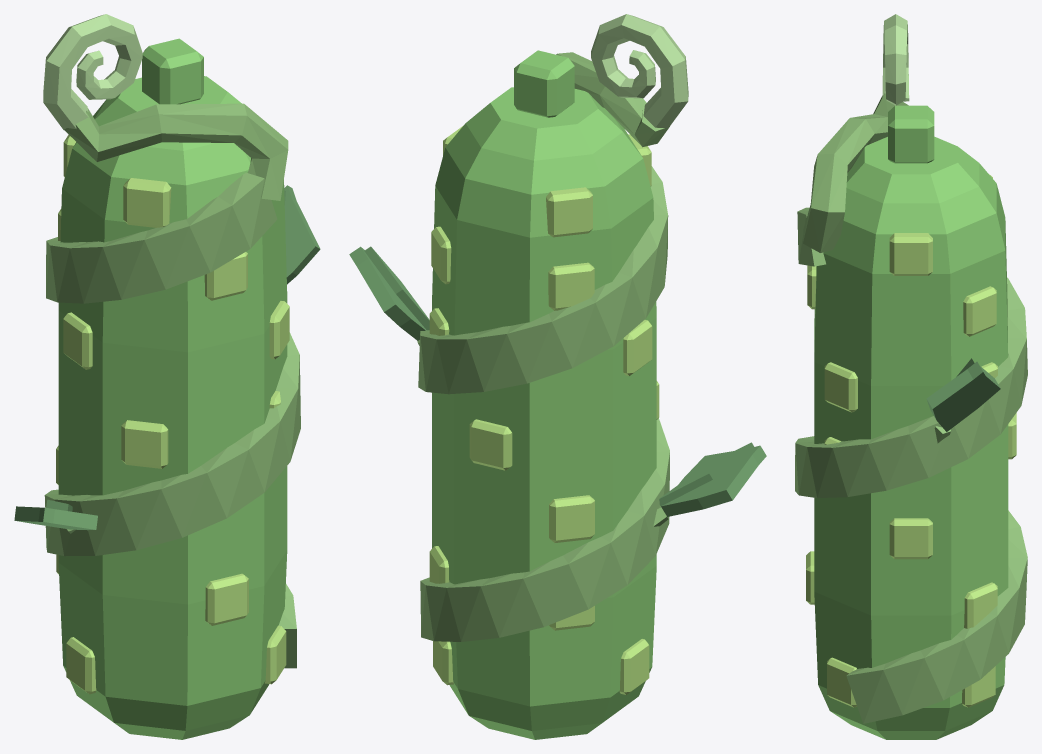
The model's file is VinedCucumber.fbx.
3 views of the same model, side by side, from view 1: azimuth 30°, elevation 25°; view 2: azimuth 150°, elevation 25°; view 3: azimuth 270°, elevation 25° (orthographic). The views are drawn at different scales.
Parts seen in each view (by area): view 1: VinedCucumber.Body, VinedCucumber.Vine, VinedCucumber.Studs, VinedCucumber.Tendril, VinedCucumber.Leaves; view 2: VinedCucumber.Body, VinedCucumber.Vine, VinedCucumber.Studs, VinedCucumber.Leaves, VinedCucumber.Tendril; view 3: VinedCucumber.Body, VinedCucumber.Vine, VinedCucumber.Studs, VinedCucumber.Leaves, VinedCucumber.Tendril.
Part boxes in pixels (bbox=[...]): VinedCucumber.Body: bbox=[58, 38, 287, 739]; VinedCucumber.Vine: bbox=[44, 103, 300, 668]; VinedCucumber.Studs: bbox=[56, 134, 289, 694]; VinedCucumber.Tendril: bbox=[43, 14, 142, 129]; VinedCucumber.Leaves: bbox=[14, 185, 320, 530]; VinedCucumber.Body: bbox=[432, 50, 656, 739]; VinedCucumber.Vine: bbox=[417, 52, 669, 641]; VinedCucumber.Studs: bbox=[429, 126, 659, 694]; VinedCucumber.Leaves: bbox=[349, 246, 766, 516]; VinedCucumber.Tendril: bbox=[591, 14, 688, 128]; VinedCucumber.Body: bbox=[814, 105, 1008, 739]; VinedCucumber.Vine: bbox=[795, 93, 1027, 723]; VinedCucumber.Studs: bbox=[806, 174, 1016, 707]; VinedCucumber.Leaves: bbox=[926, 358, 1000, 431]; VinedCucumber.Tendril: bbox=[882, 14, 909, 105].
Bounding box in the file's own units: 2.3 × 4.69 × 1.51.
